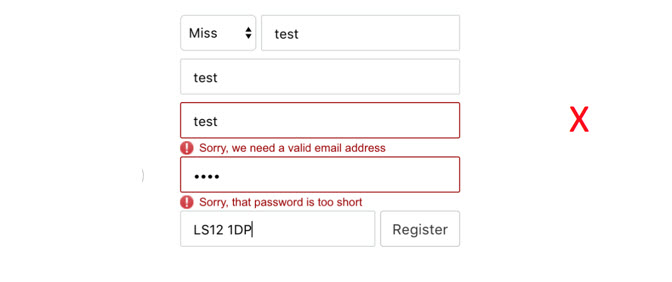error_field: (178, 101, 462, 140), (179, 156, 461, 193)
error_message: (196, 141, 389, 155), (197, 196, 366, 209)
